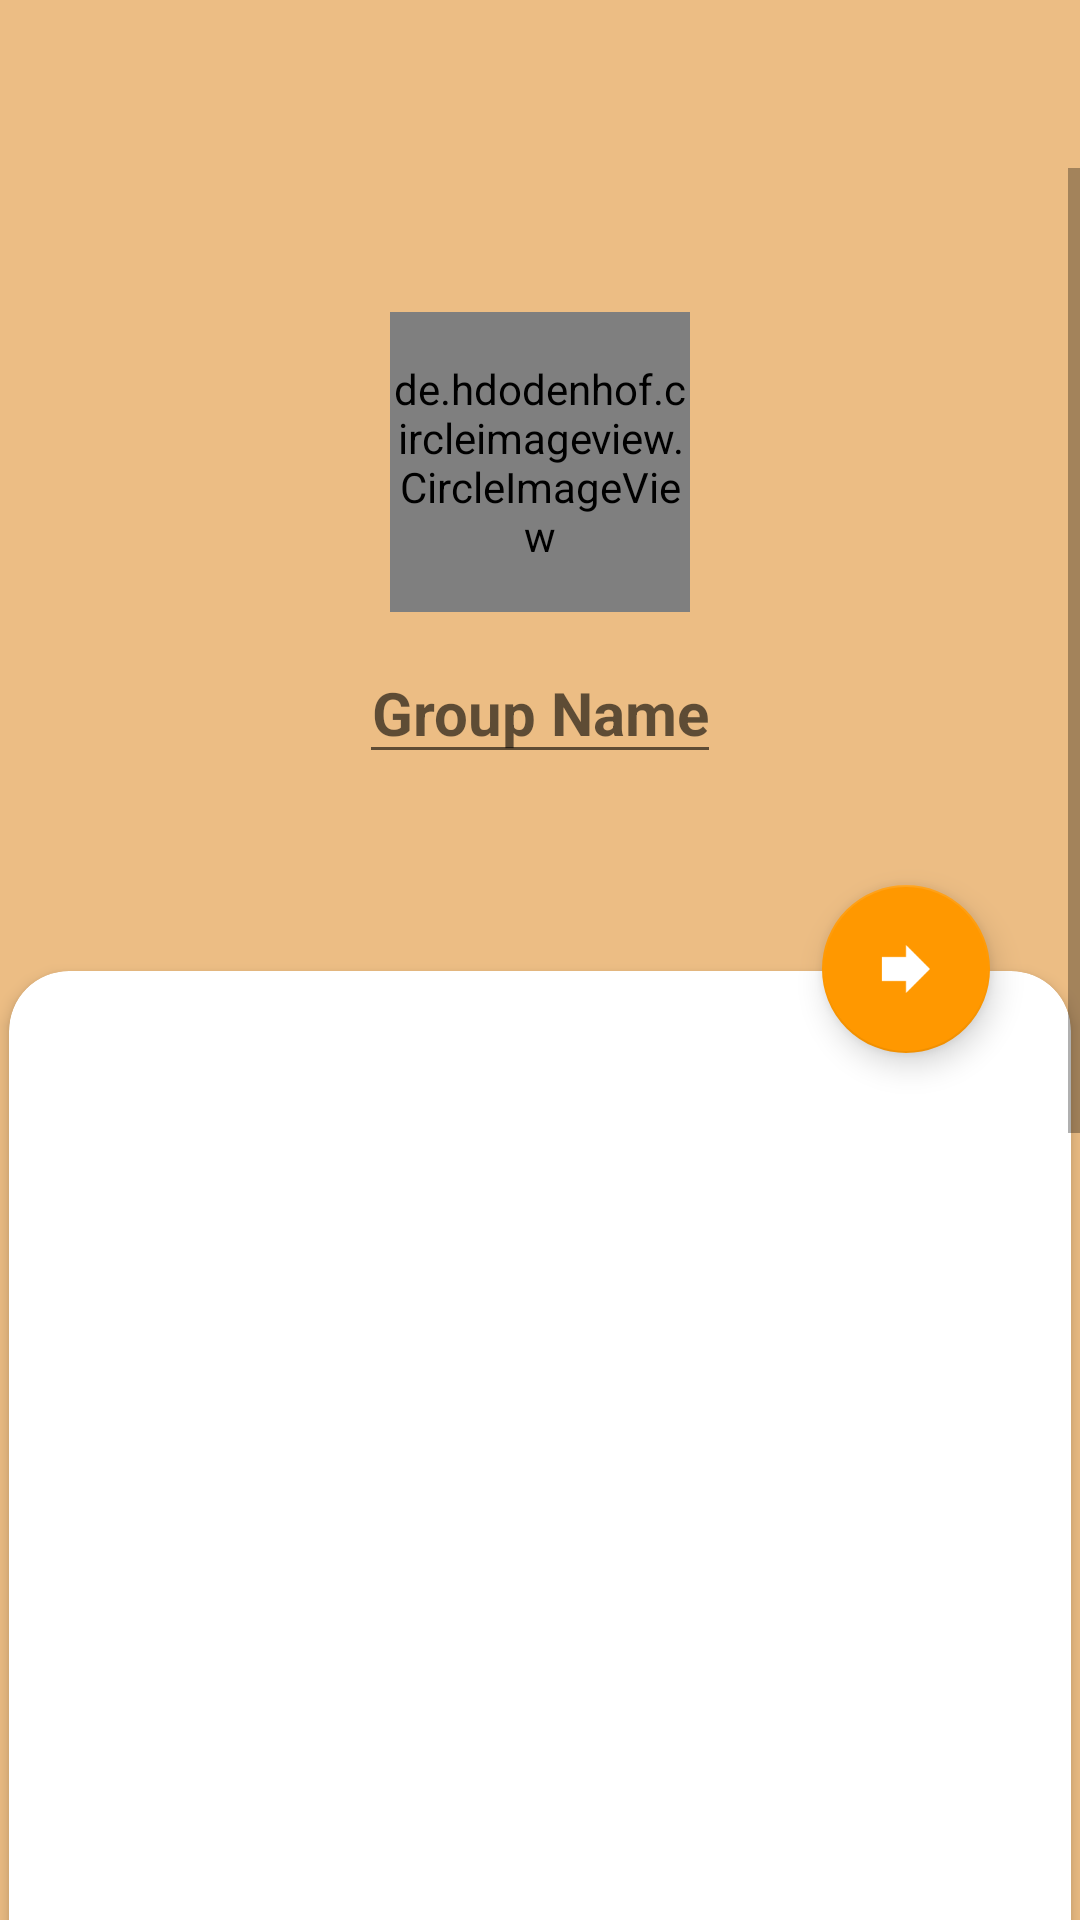

Point at icon controls on the screen. Image size 1080w x 1920h, points as (x,y).
next: (906,969)
